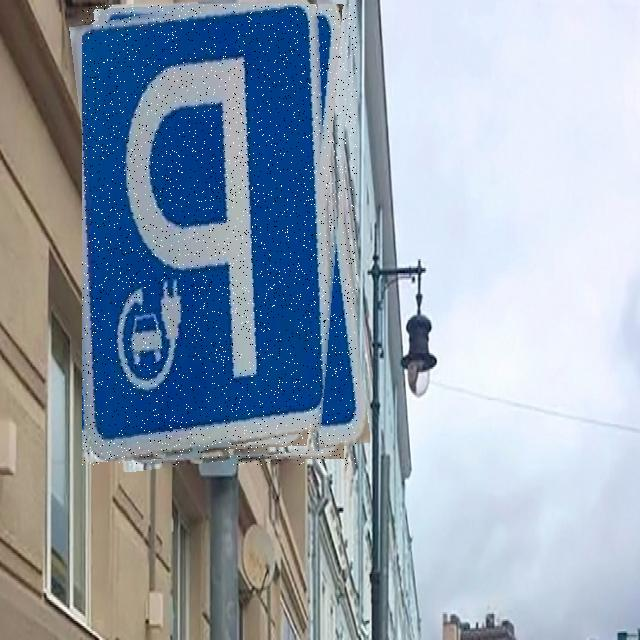parking: (82, 4, 357, 465)
